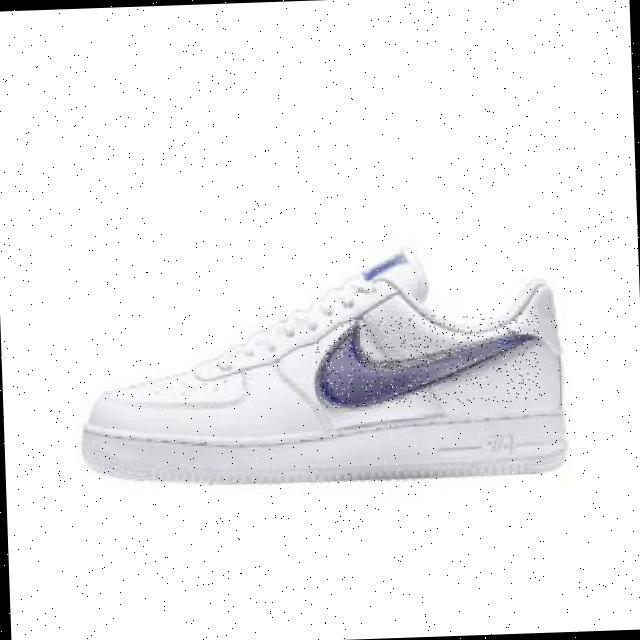Nike: (314, 311, 541, 409)
